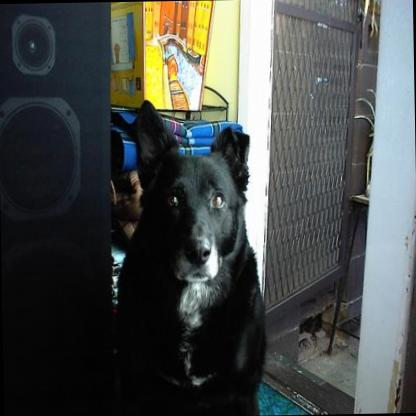kelpie: (113, 99, 265, 414)
